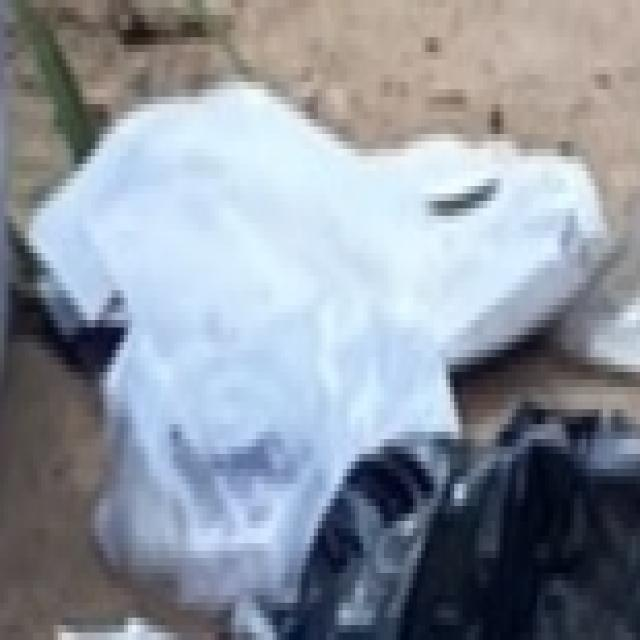plastic bag: (20, 0, 640, 588)
